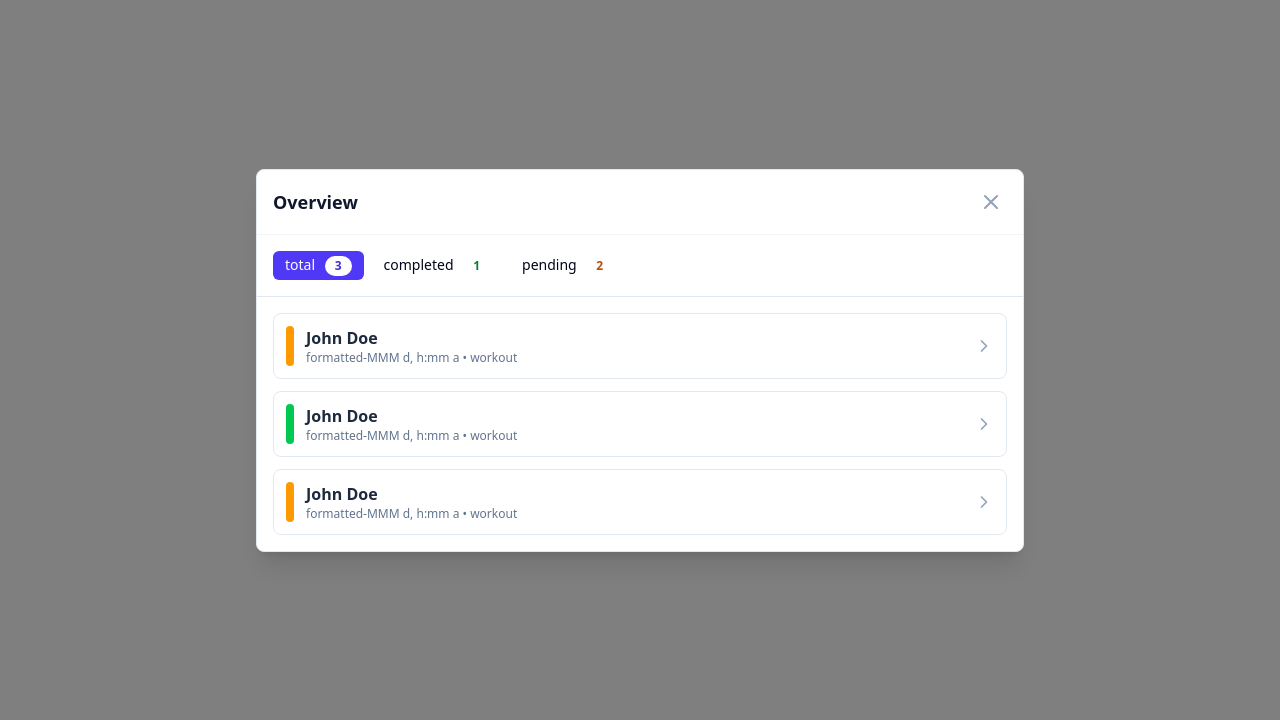
Test: OverviewModal › filters to pending sessions when pending tab is clicked
The image size is (1280, 720).
Click the button "pending 2" at (568, 265), box [510,250,625,280]
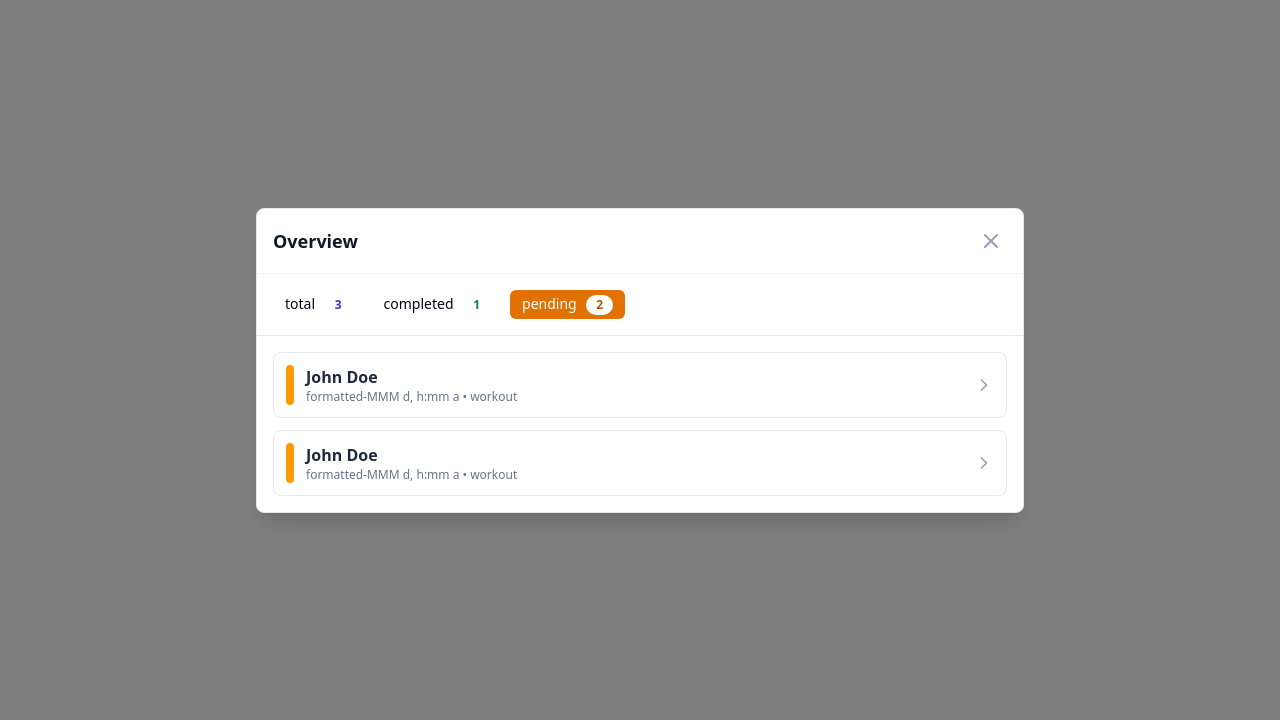
Expected: the text "John Doe" is shown 2 times, [306,366,378,388]; [306,444,378,466]
